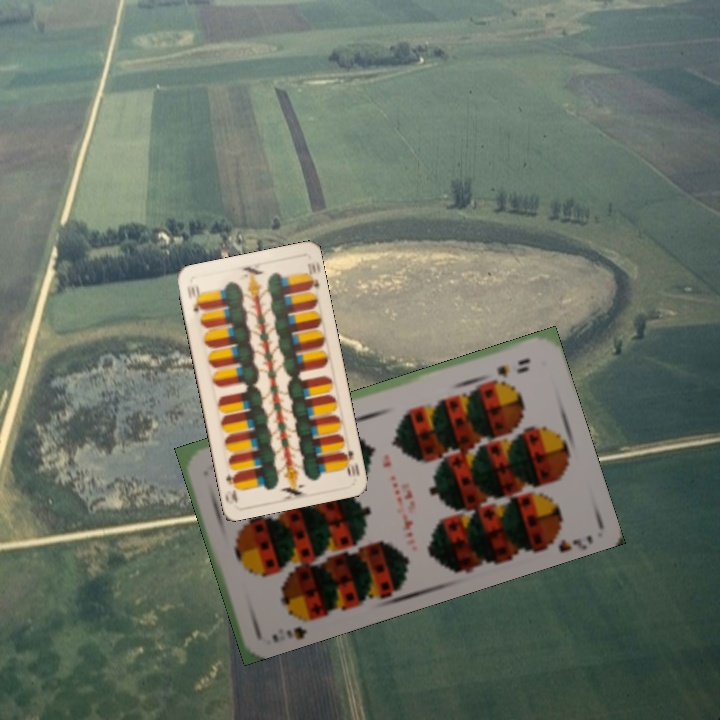E10: (337, 446, 362, 479), (187, 280, 205, 314)
S9: (268, 608, 317, 645), (493, 354, 533, 379)
